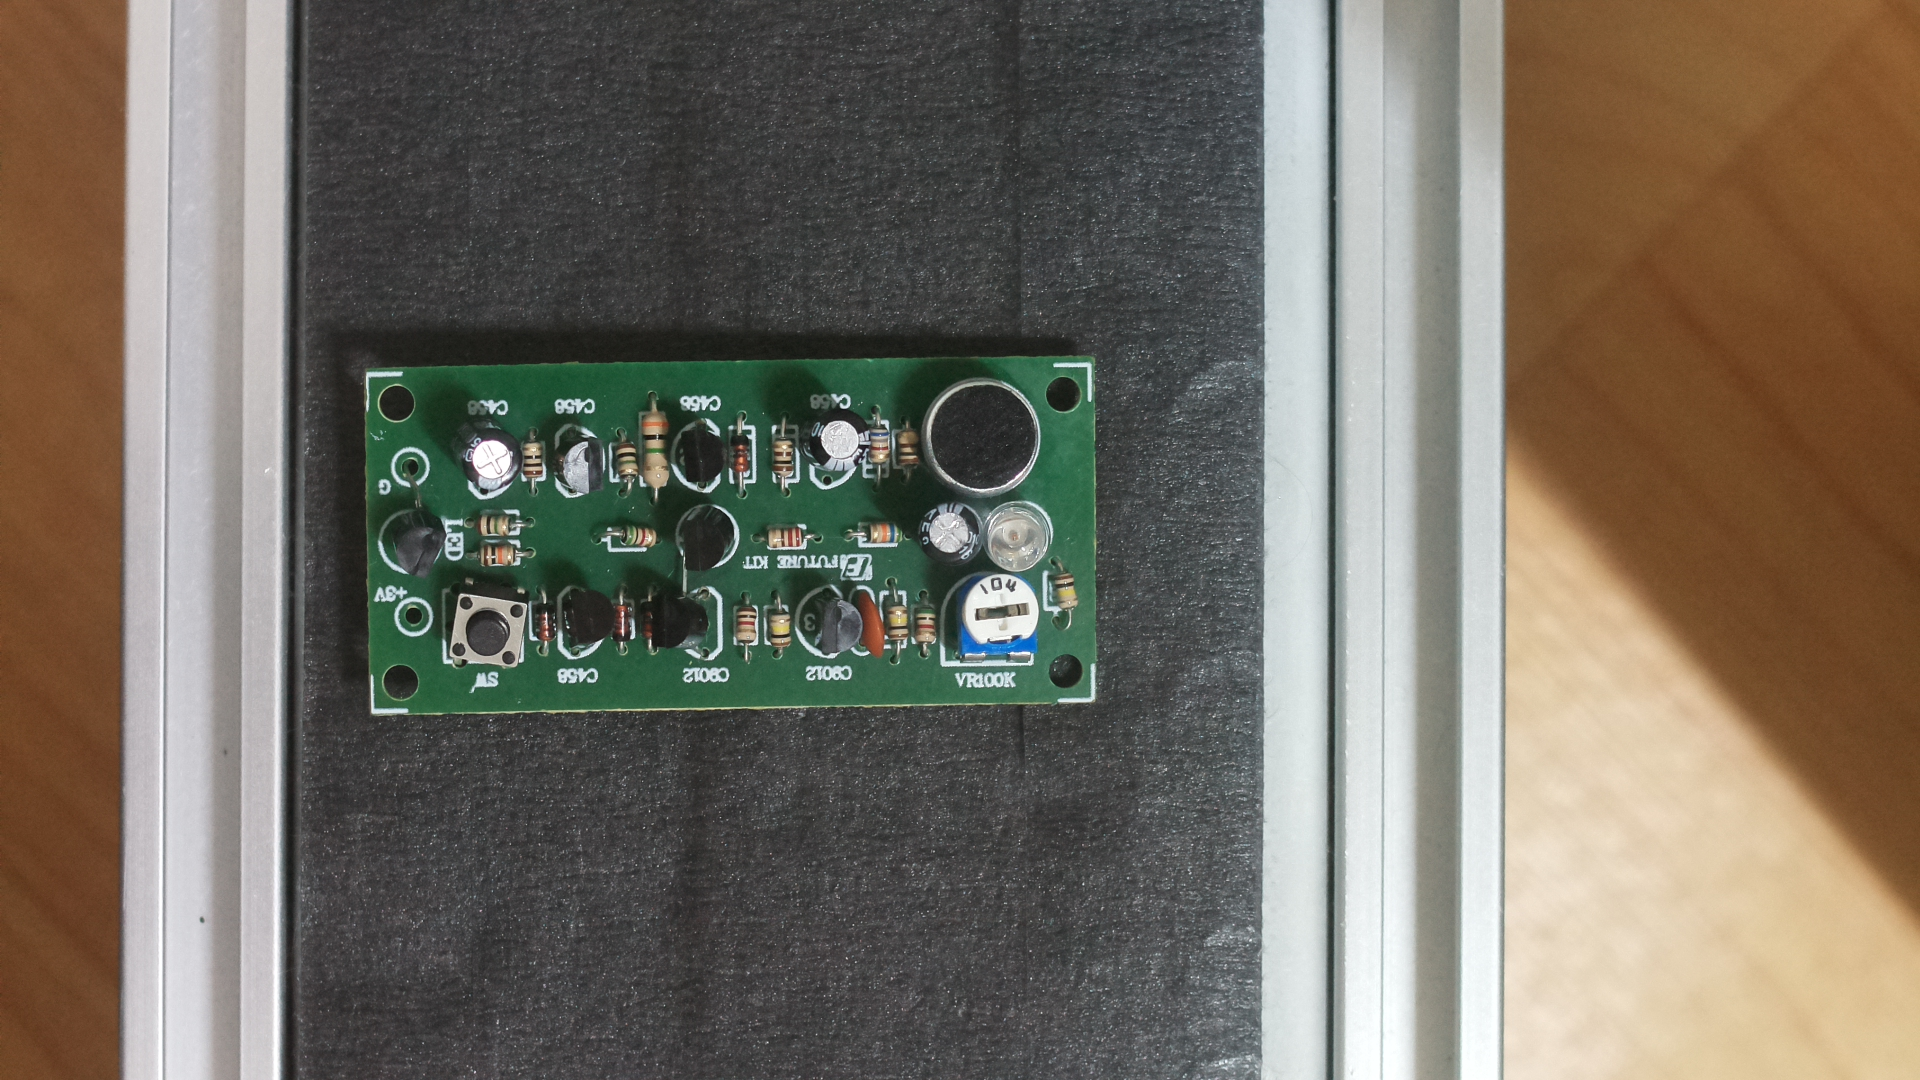A_Misordered: (361, 338, 1130, 742)
